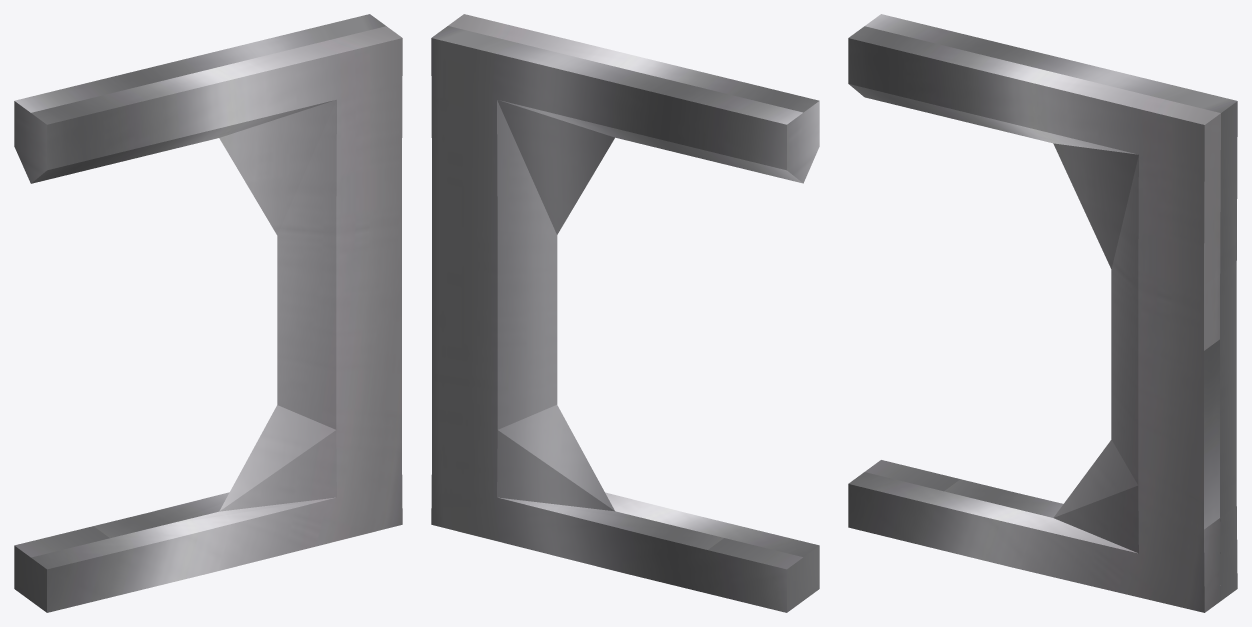
File: Door_Rpan_Re.FBX
The picture shows the model from 3 angles, left to right: view 1: azimuth 30°, elevation 25°; view 2: azimuth 150°, elevation 25°; view 3: azimuth 330°, elevation 25°; orthographic projection.
Visible parts, largest first — view 1: Door_Rpan_re; view 2: Door_Rpan_re; view 3: Door_Rpan_re.
Part boxes in pixels (x1,y1,x2,y2): Door_Rpan_re: (14, 14, 402, 612); Door_Rpan_re: (431, 14, 819, 612); Door_Rpan_re: (848, 14, 1237, 612).
Size of the model in its own units: 429 by 563 by 68.53.
1 material, 1 textured.
